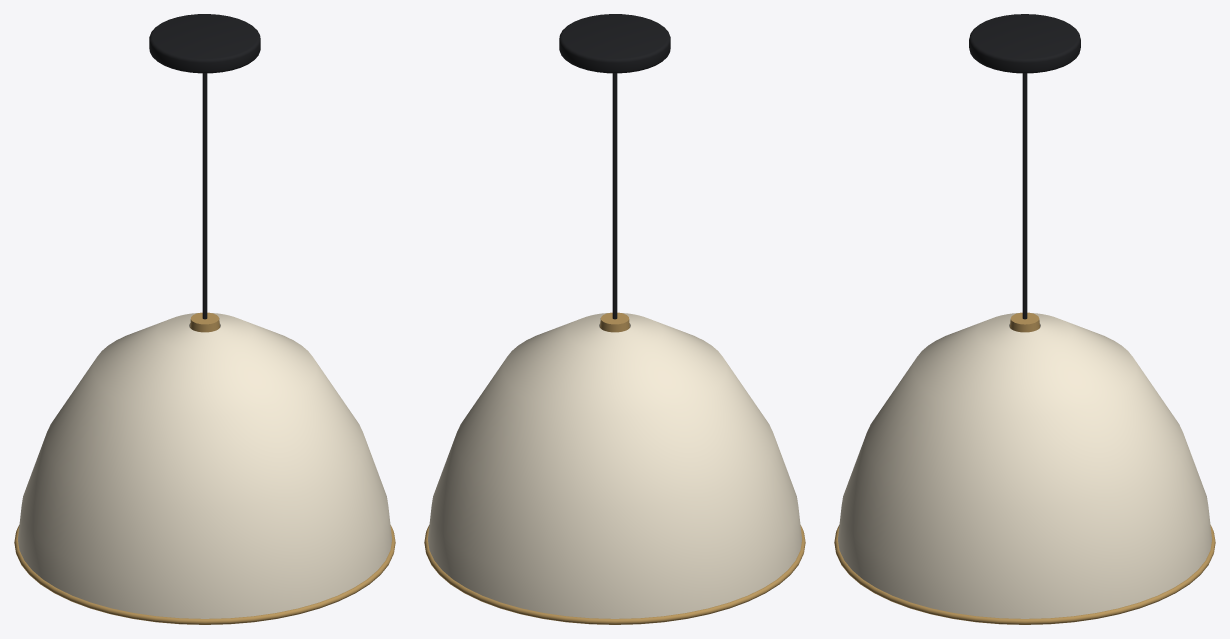
Rendered from candeeiro_teto.glb.
3 views of the same model, side by side, from view 1: azimuth 30°, elevation 25°; view 2: azimuth 150°, elevation 25°; view 3: azimuth 270°, elevation 25° (orthographic).
Visible parts, largest first — view 1: p; view 2: p; view 3: p.
Part boxes in pixels (x1,y1,x2,y2): p: (14,14,395,624); p: (424,14,805,624); p: (834,14,1215,624).
Size of the model in its own units: 0.478 by 0.7038 by 0.478.
